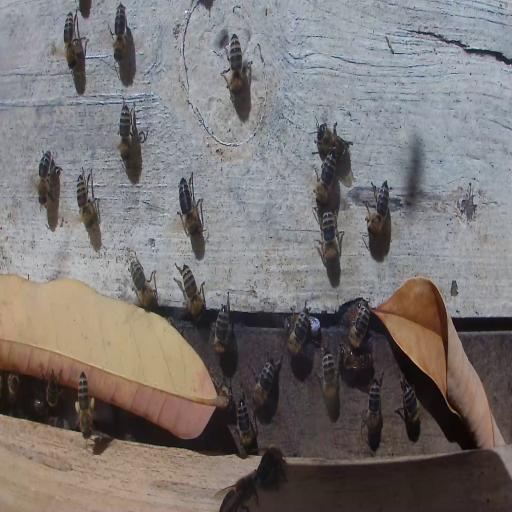bee: (177, 171, 203, 243), (129, 249, 159, 310), (174, 264, 205, 320), (313, 122, 350, 167), (74, 369, 96, 442), (76, 165, 100, 231), (364, 179, 391, 236), (255, 444, 288, 490), (317, 207, 342, 267), (218, 474, 257, 510), (250, 358, 276, 411), (399, 376, 423, 433), (235, 393, 256, 457), (321, 348, 342, 412), (284, 305, 310, 356), (118, 99, 138, 163), (364, 379, 384, 442), (314, 151, 337, 205), (225, 32, 243, 96), (346, 302, 370, 349), (340, 347, 374, 380), (212, 296, 230, 356), (37, 150, 54, 207), (62, 9, 77, 72), (111, 2, 127, 60), (6, 370, 20, 407), (46, 373, 59, 410), (32, 395, 48, 419)
